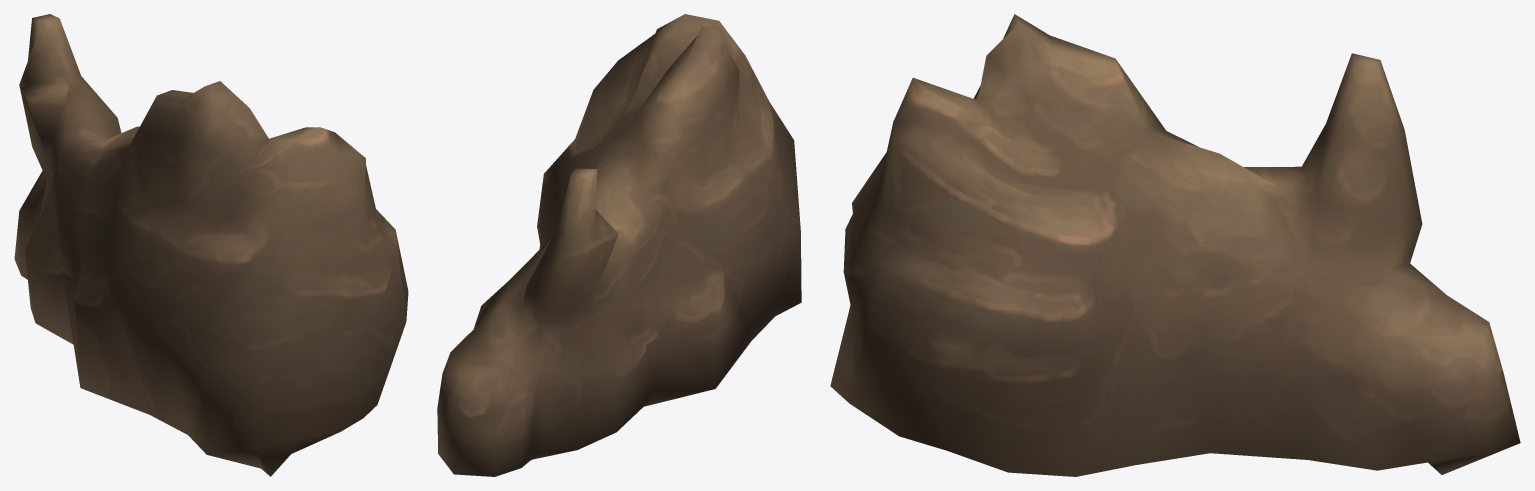
Rendered from dm_rock_03.fbx.
3 renders of one model, left to right at view 1: azimuth 30°, elevation 25°; view 2: azimuth 150°, elevation 25°; view 3: azimuth 270°, elevation 25°, orthographic. The views are drawn at different scales.
Parts seen in each view (by area): view 1: dm_rock_03; view 2: dm_rock_03; view 3: dm_rock_03.
Boxes of the visible parts, <box> form: dm_rock_03: <box>14,14,408,476</box>; dm_rock_03: <box>437,14,801,476</box>; dm_rock_03: <box>830,14,1520,476</box>.
Size of the model in its own units: 1.1 by 1.63 by 2.44.
